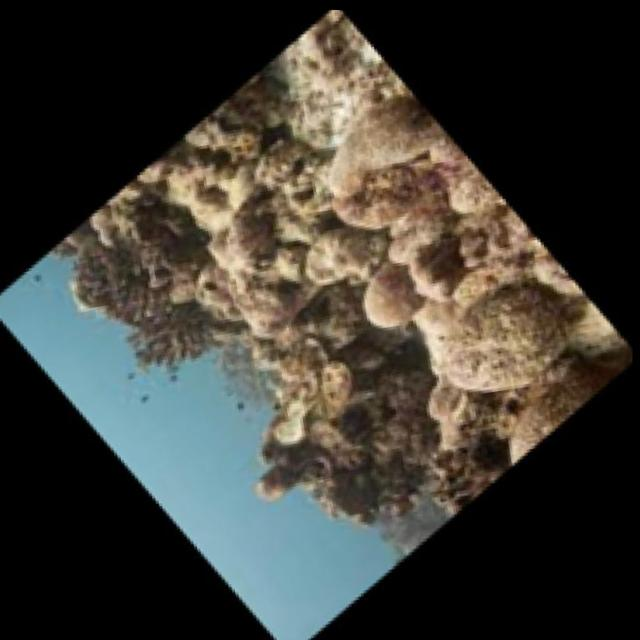Dead Coral: (260, 71, 488, 362), (371, 259, 593, 470), (223, 323, 418, 553), (54, 207, 258, 414)
